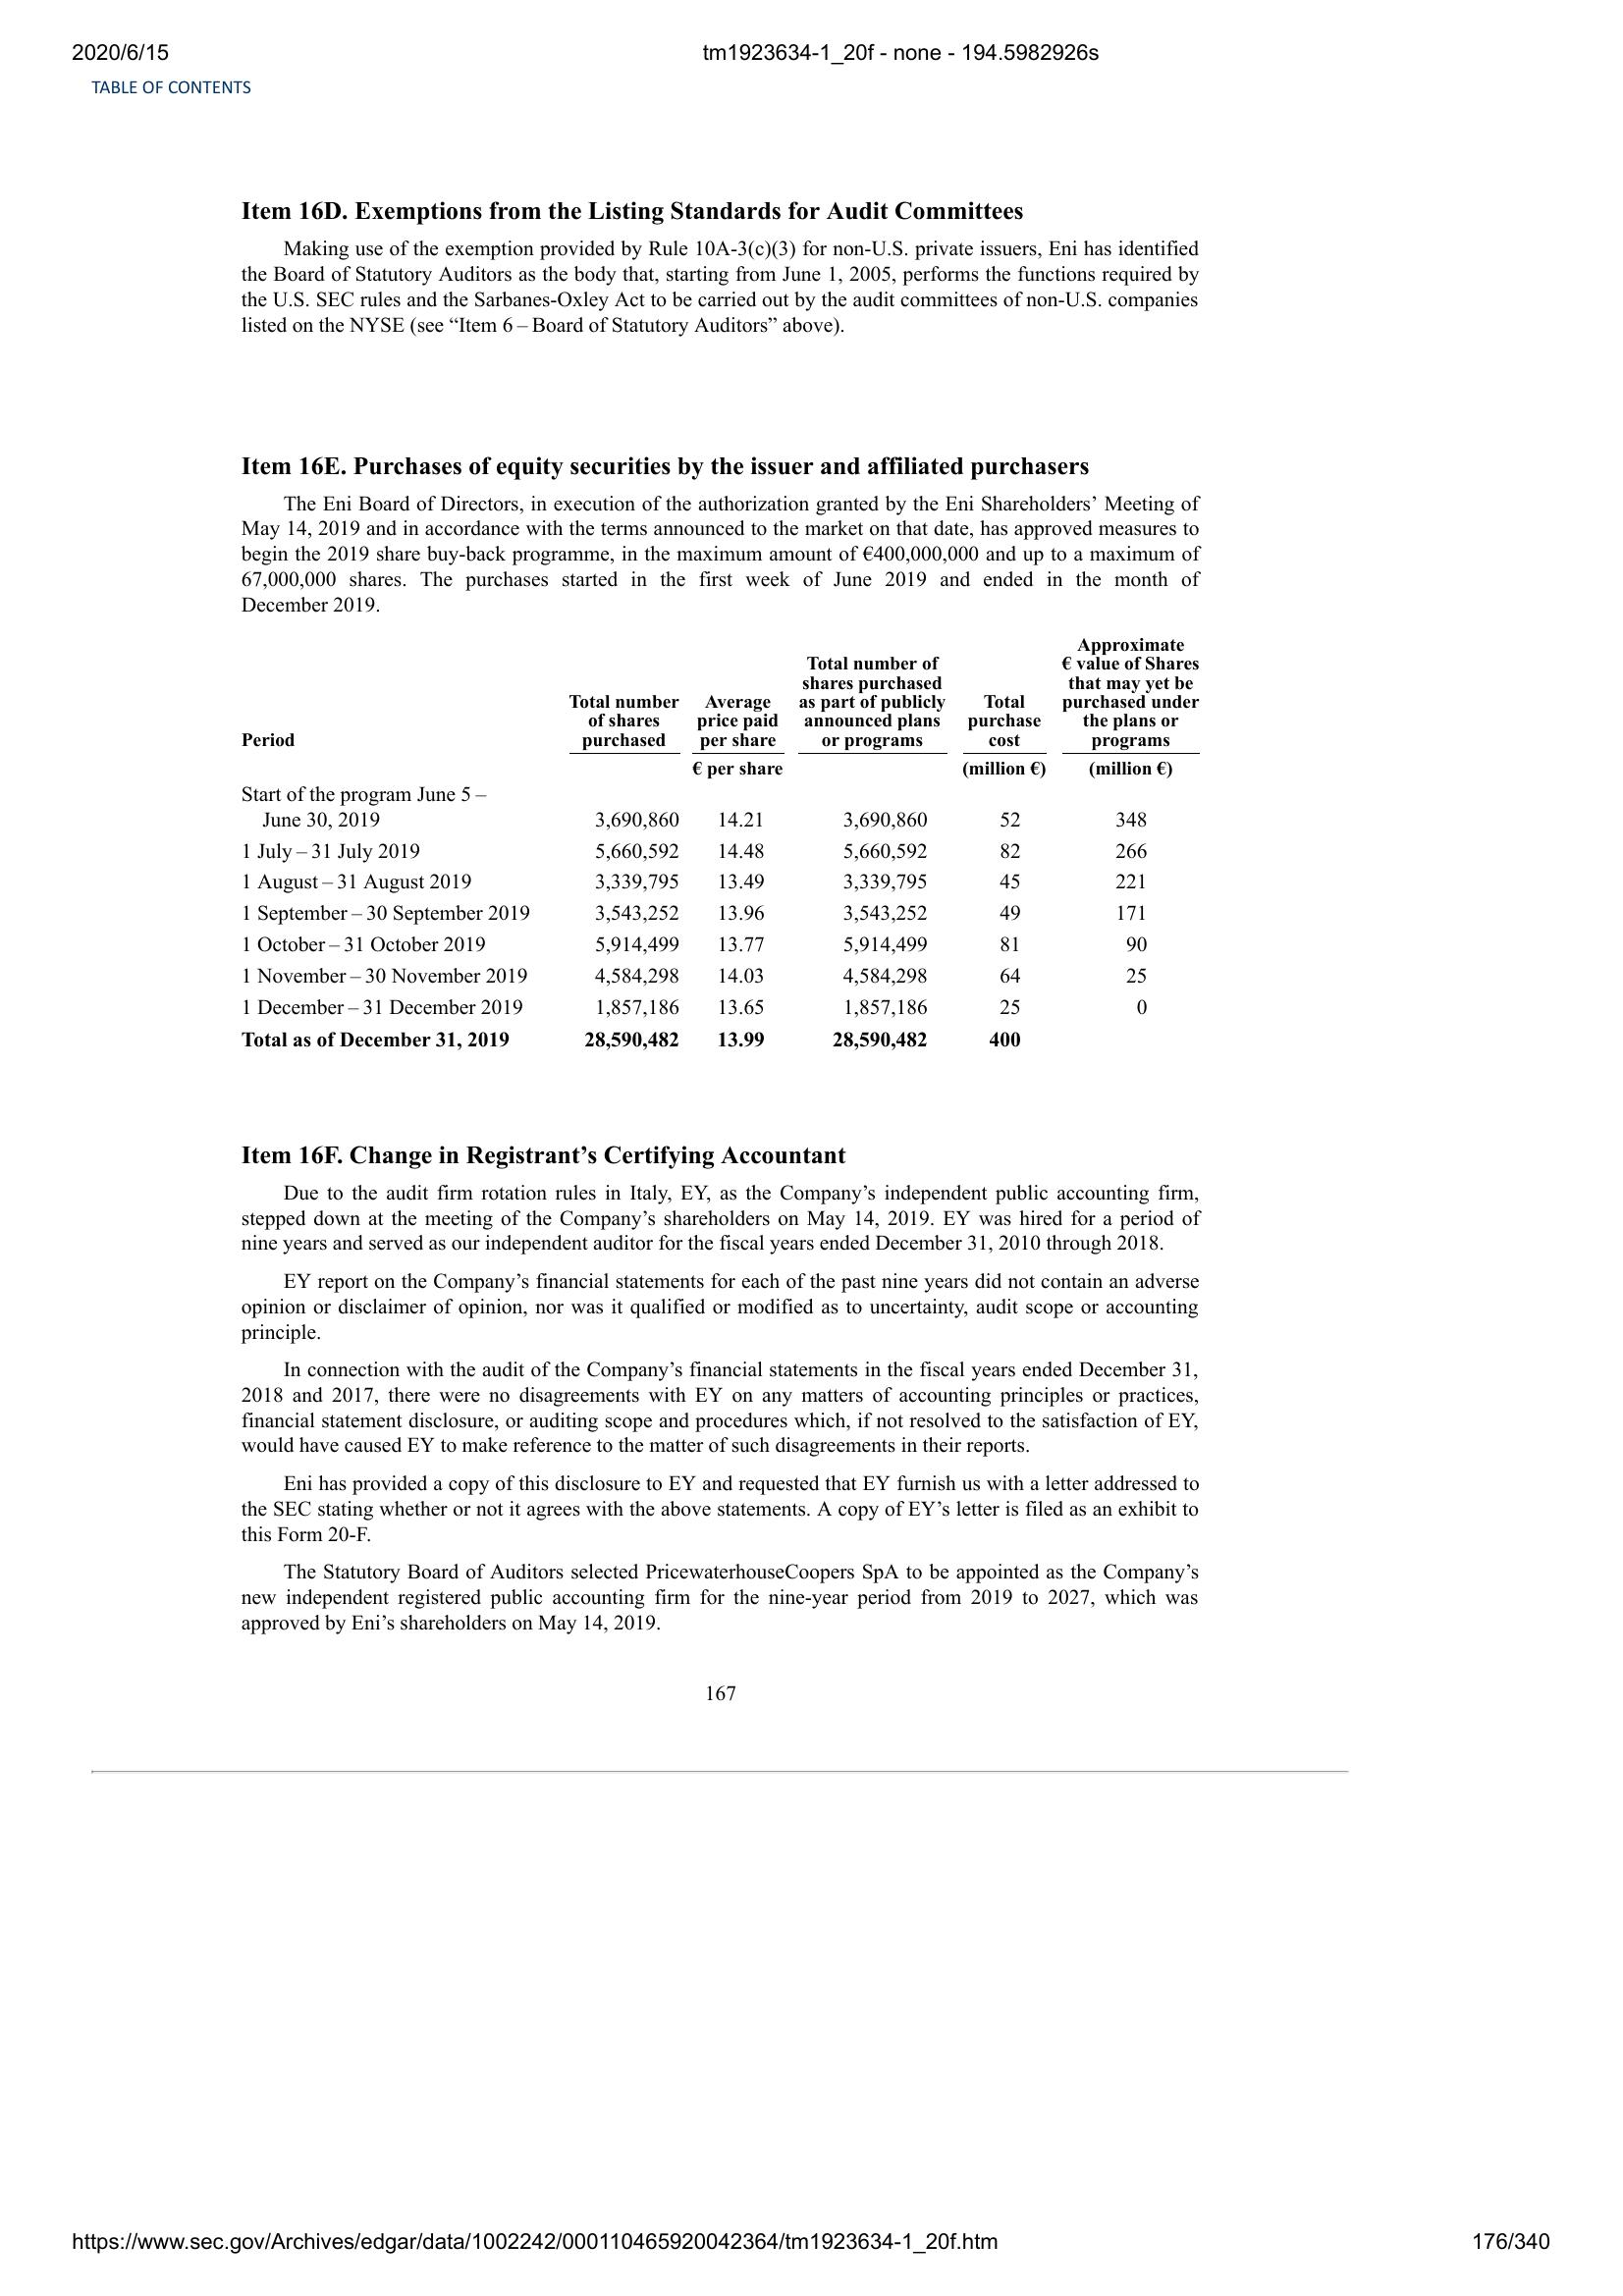table: (239, 630, 1208, 1064)
